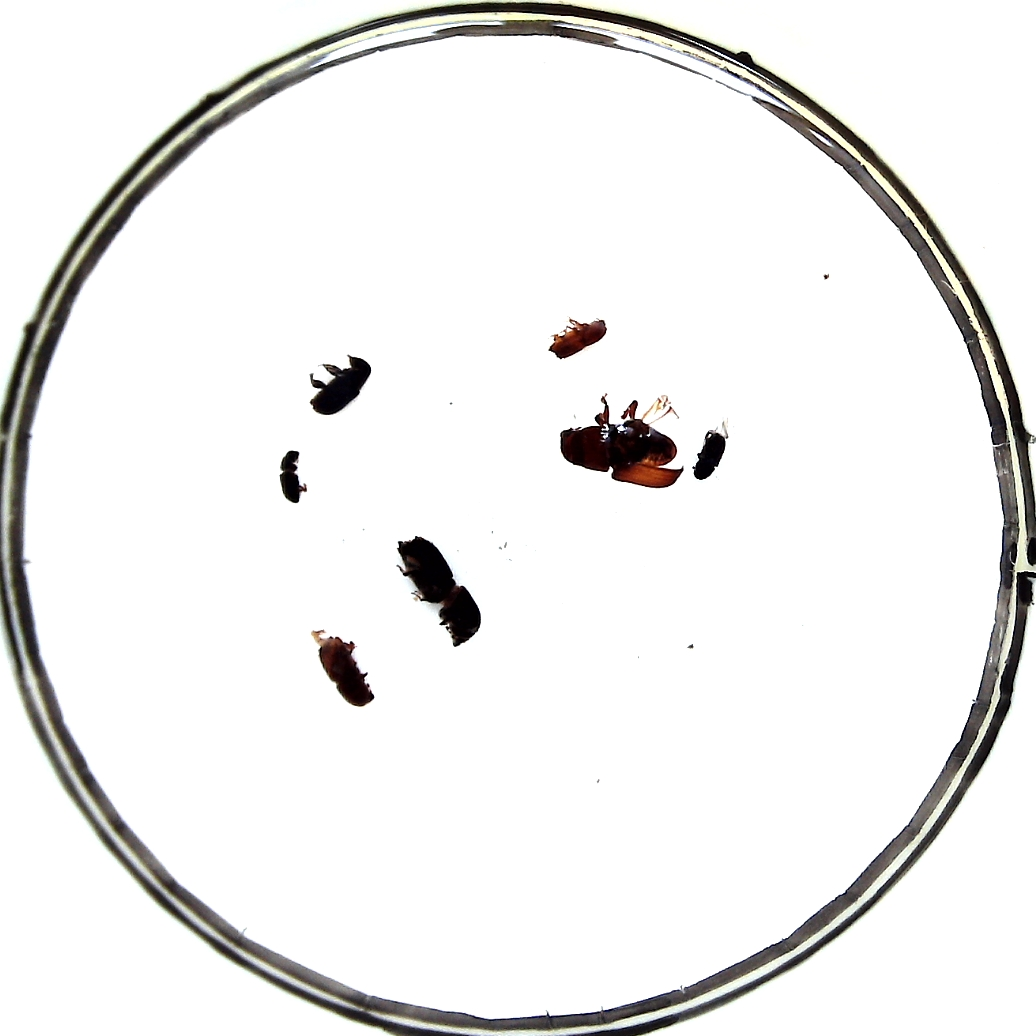Boerner: (395, 535, 480, 647)
Leconte: (556, 407, 686, 487)
Linnaeus: (314, 636, 374, 708)
acuminatus: (550, 317, 608, 359)
armandi: (310, 351, 372, 414)
coleoptera: (274, 451, 308, 507), (695, 431, 727, 480)
